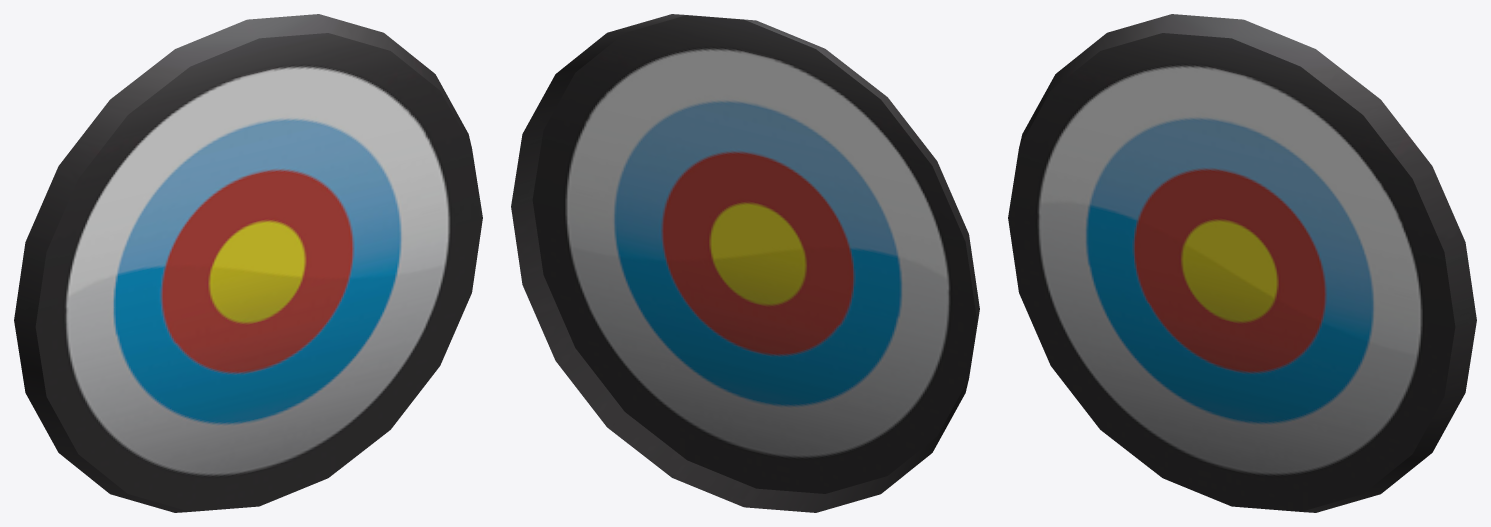
File: KGTarget.fbx
3 views of the same model, side by side, from view 1: azimuth 30°, elevation 25°; view 2: azimuth 150°, elevation 25°; view 3: azimuth 330°, elevation 25° (orthographic).
Visible parts, largest first — view 1: KGTargetMesh; view 2: KGTargetMesh; view 3: KGTargetMesh.
Boxes of the visible parts, left/top/right/bottom form: KGTargetMesh: left=14, top=14, right=482, bottom=512; KGTargetMesh: left=511, top=14, right=979, bottom=512; KGTargetMesh: left=1008, top=14, right=1476, bottom=512.
Bounding box in the file's own units: 126 × 126 × 5.71.
